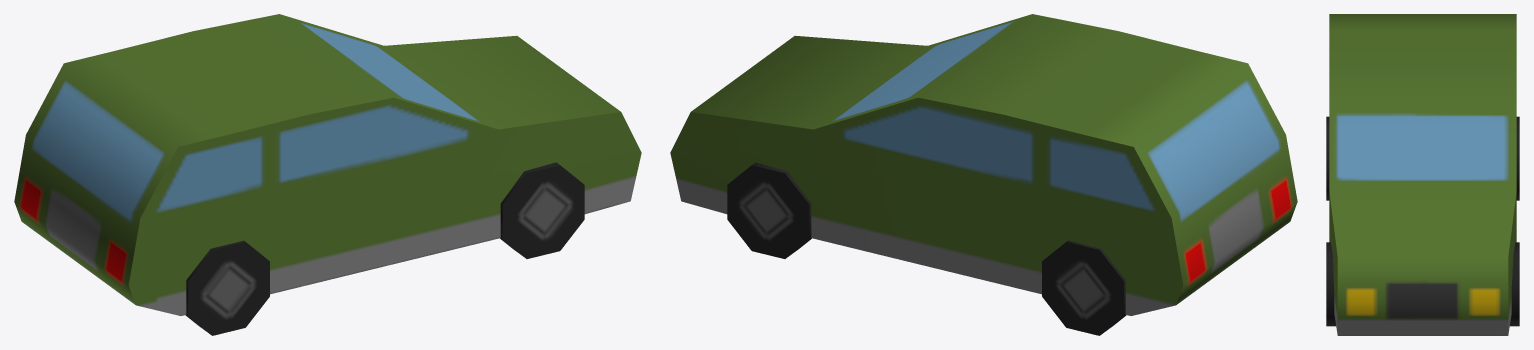
File: Car06.glb
3 views of the same model, side by side, from view 1: azimuth 30°, elevation 25°; view 2: azimuth 150°, elevation 25°; view 3: azimuth 270°, elevation 25° (orthographic). The views are drawn at different scales.
Visible parts, largest first — view 1: Car06; view 2: Car06; view 3: Car06.
Part boxes in pixels (x1,y1,x2,y2): Car06: (14, 14, 641, 335); Car06: (670, 14, 1297, 335); Car06: (1326, 14, 1519, 335).
Size of what is drawn, in the model's own units: 3.91 by 1.42 by 1.54.
1 material, 1 textured.
